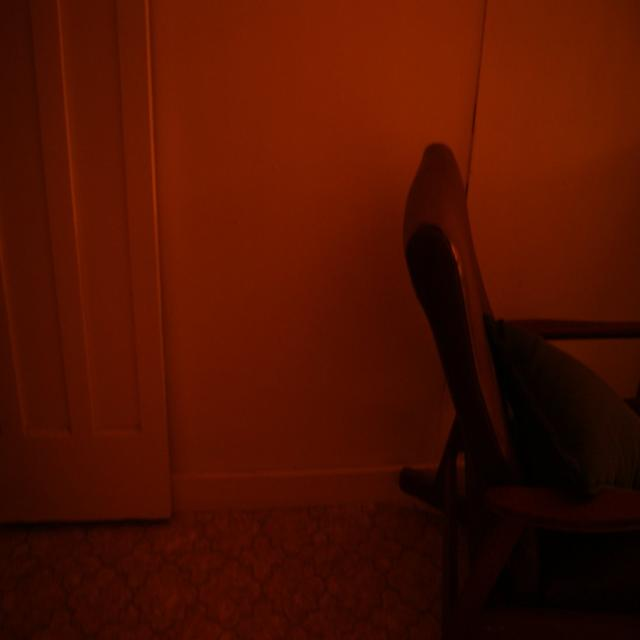chair: (387, 117, 640, 640)
